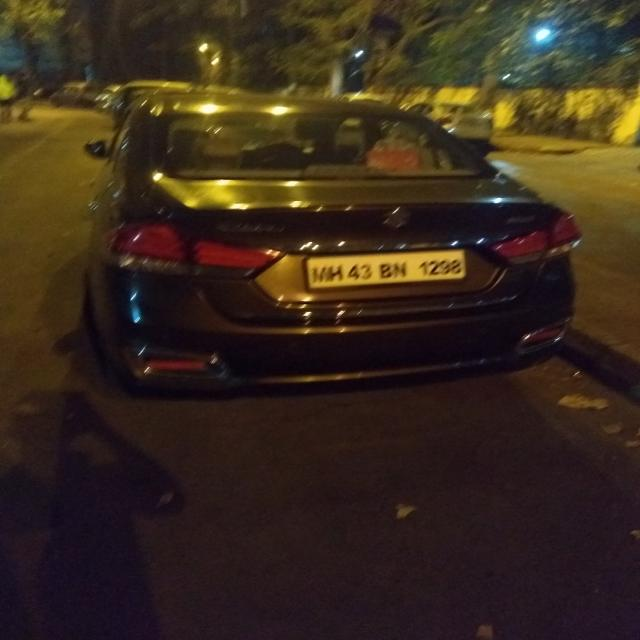Number-Plate: (309, 251, 466, 283)
